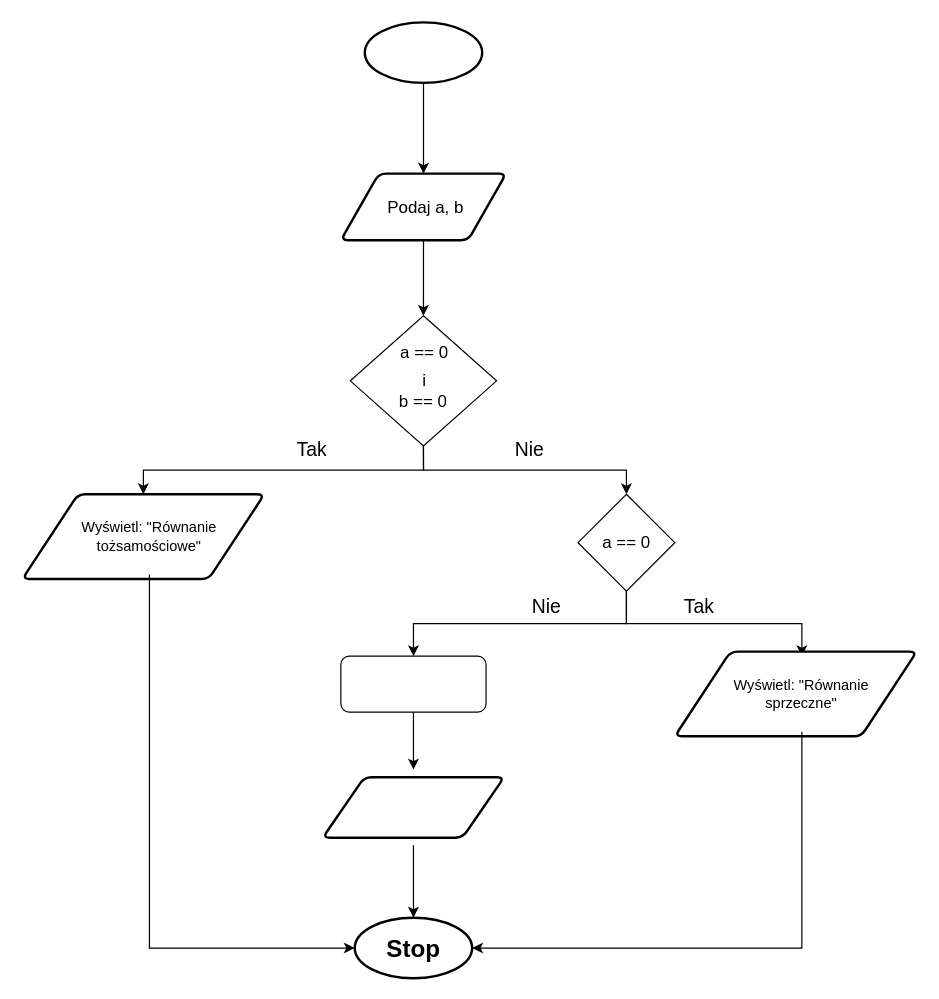
The diagram is 939 pixels wide and 999 high, and some of its shapes have lost their labels. The centre of each missing label's shape, as x and y in pixels:
Start: (x=423, y=52)
Wynik: -b / a: (x=413, y=683)
Wyświetl wynik: (x=413, y=806)
